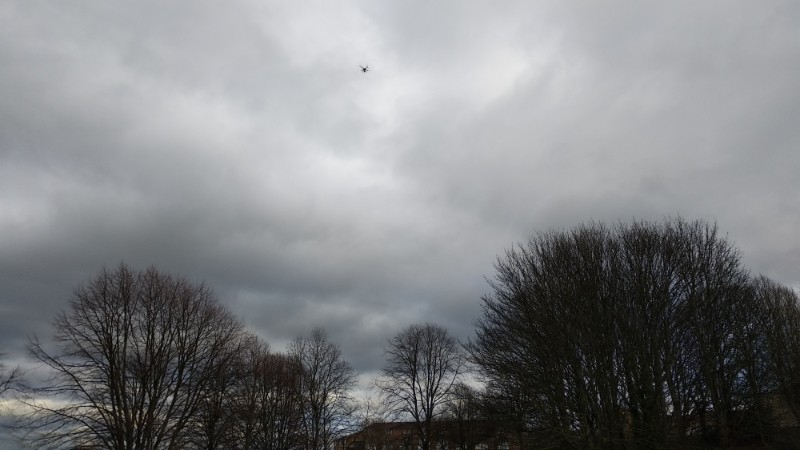drone: (359, 65, 370, 74)
